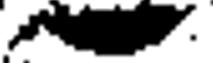Basket: (8, 2, 198, 59)
